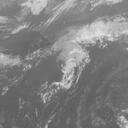cyclone: (52, 28, 92, 78)
